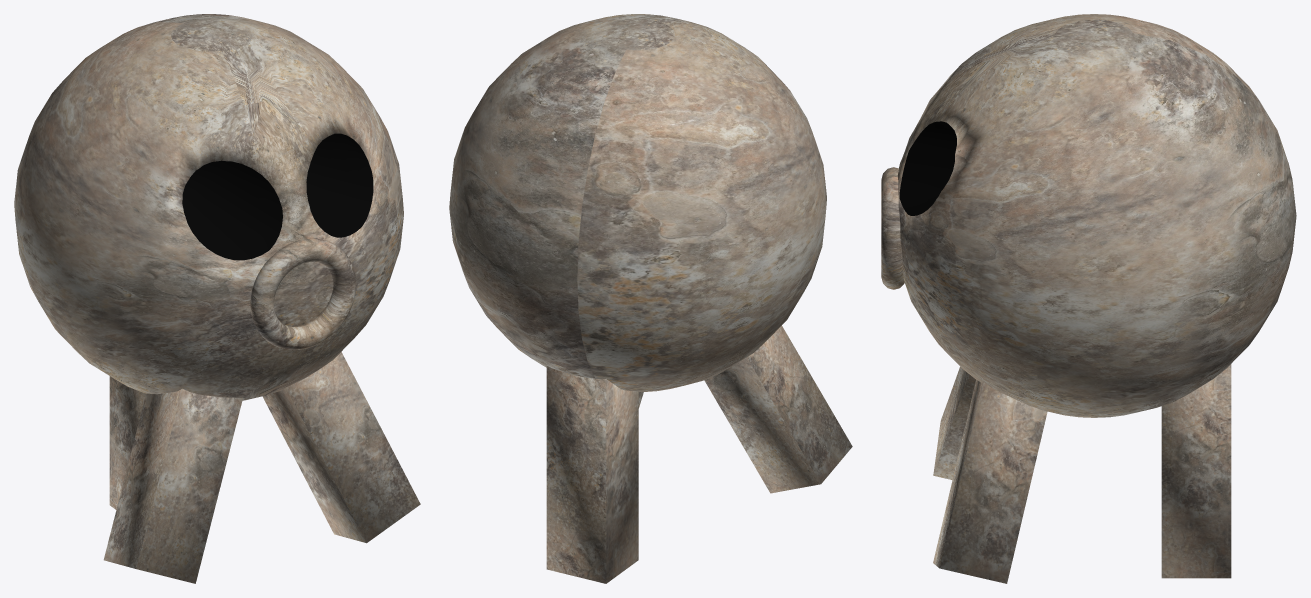
Rendered from Bombs - Shell Beach.fbx.
3 renders of one model, left to right at view 1: azimuth 30°, elevation 25°; view 2: azimuth 150°, elevation 25°; view 3: azimuth 270°, elevation 25°, orthographic. The views are drawn at different scales.
Visible parts, largest first — view 1: Torus, Torus.004; view 2: Torus, Torus.004; view 3: Torus, Torus.004.
Part boxes in pixels (<box>): Torus: <box>14,14,403,400</box>; Torus.004: <box>103,352,420,583</box>; Torus: <box>449,14,826,391</box>; Torus.004: <box>546,325,852,583</box>; Torus: <box>881,14,1296,417</box>; Torus.004: <box>933,364,1231,583</box>.
Size of the model in its own units: 0.02 by 0.029 by 0.0205.
